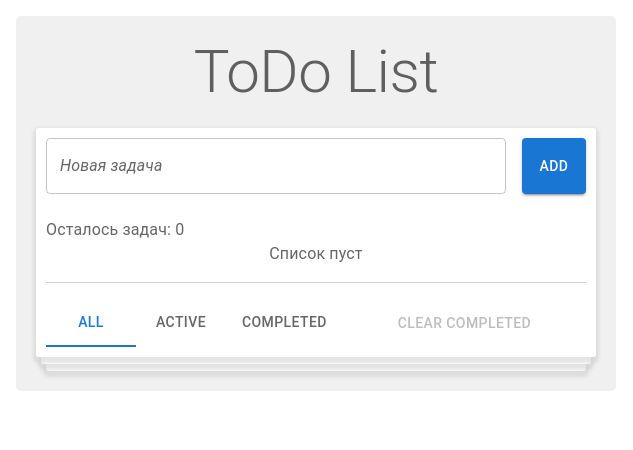
Test: ToDo App › добавляет новую задачу и отображает во вкладке All
Type "Тестовая задача" into the field labelled "Новая задача". click: (276, 166)
box: left=46, top=138, right=506, bottom=194
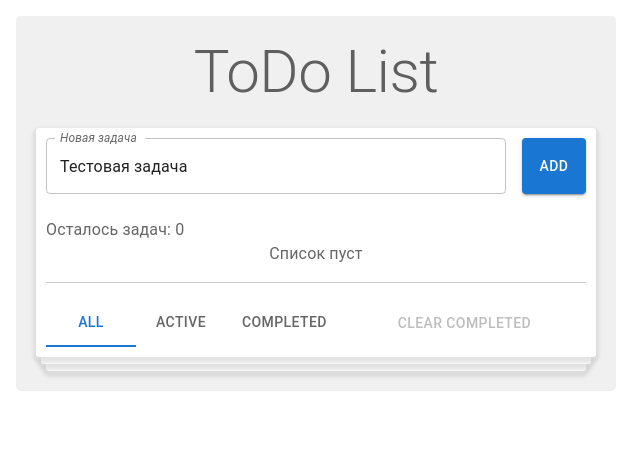
Click the button "Add". click: (554, 166)
box: left=522, top=138, right=586, bottom=194
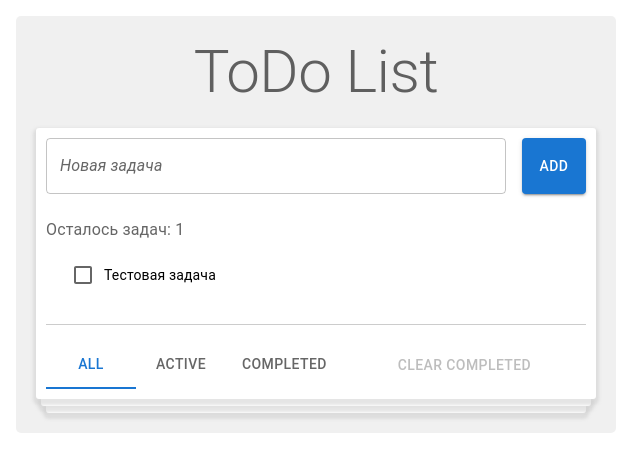
Result: the text "Тестовая задача" is shown at left=104, top=267, right=216, bottom=283
Result: the text "Осталось задач: 1" is shown at left=46, top=220, right=184, bottom=239
